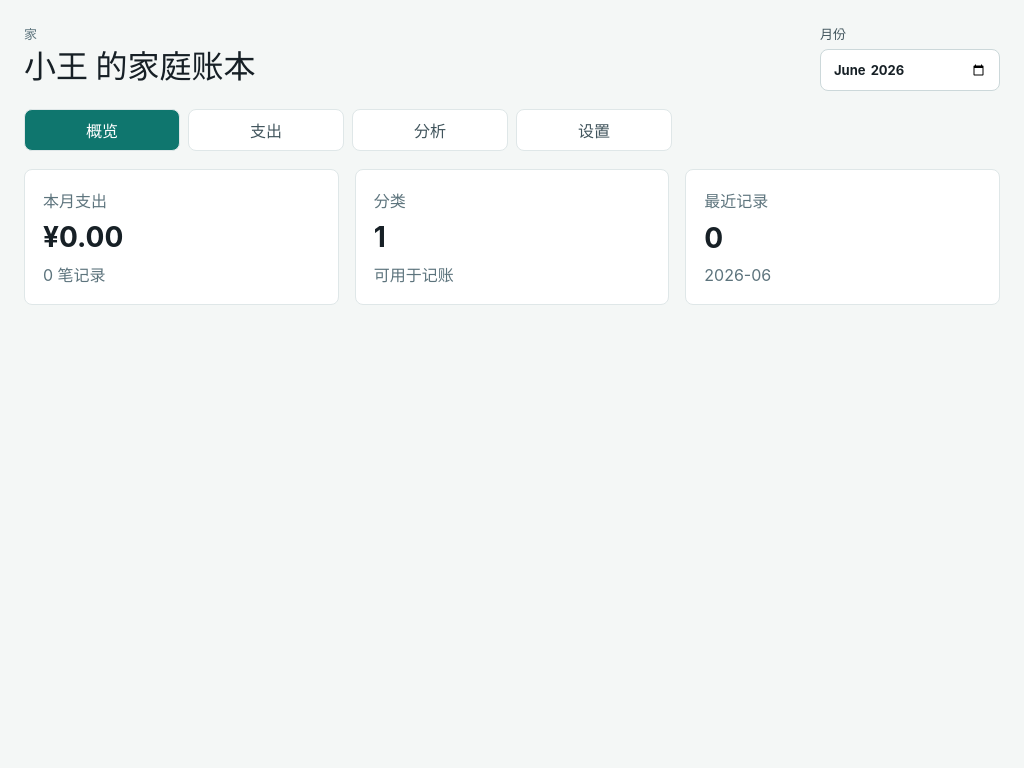
Scenario: device public entry › returns to the public entry when an authenticated expense action gets a current-token 401
Check: the navigation bar named "设备端导航" is shown, box [24, 109, 672, 151]
Step 1. Click the button "支出" → (266, 130), box [188, 109, 344, 151]
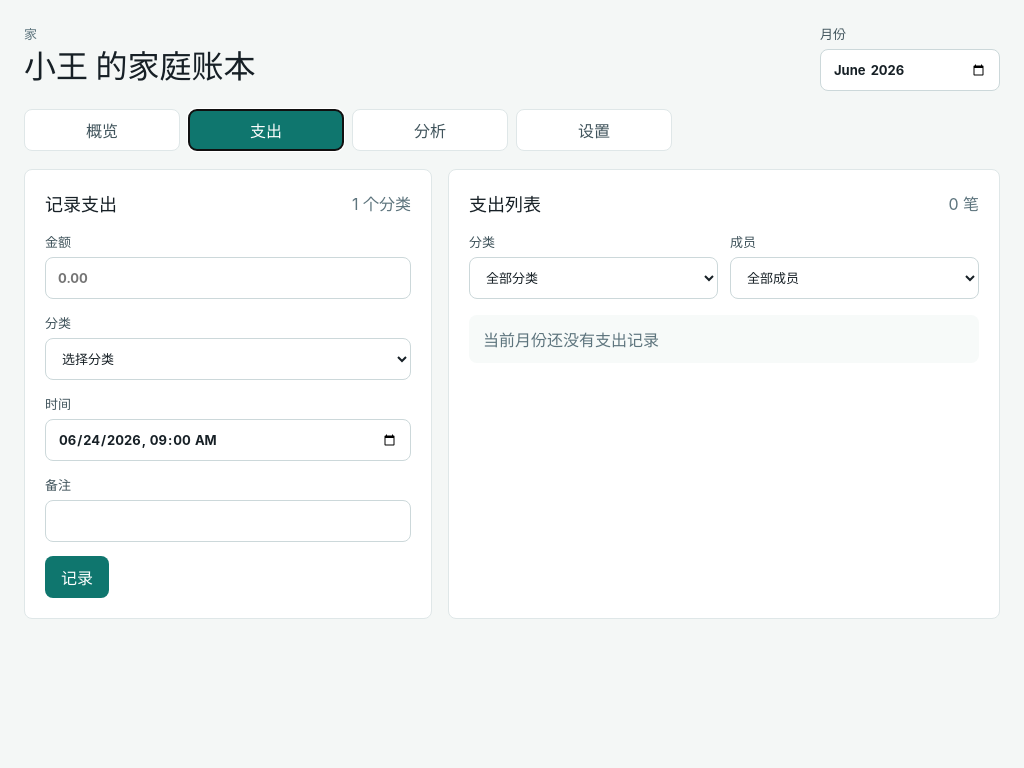
Step 2. Type "12.5" into the field with placeholder "0.00" → (228, 278), box [45, 257, 411, 299]
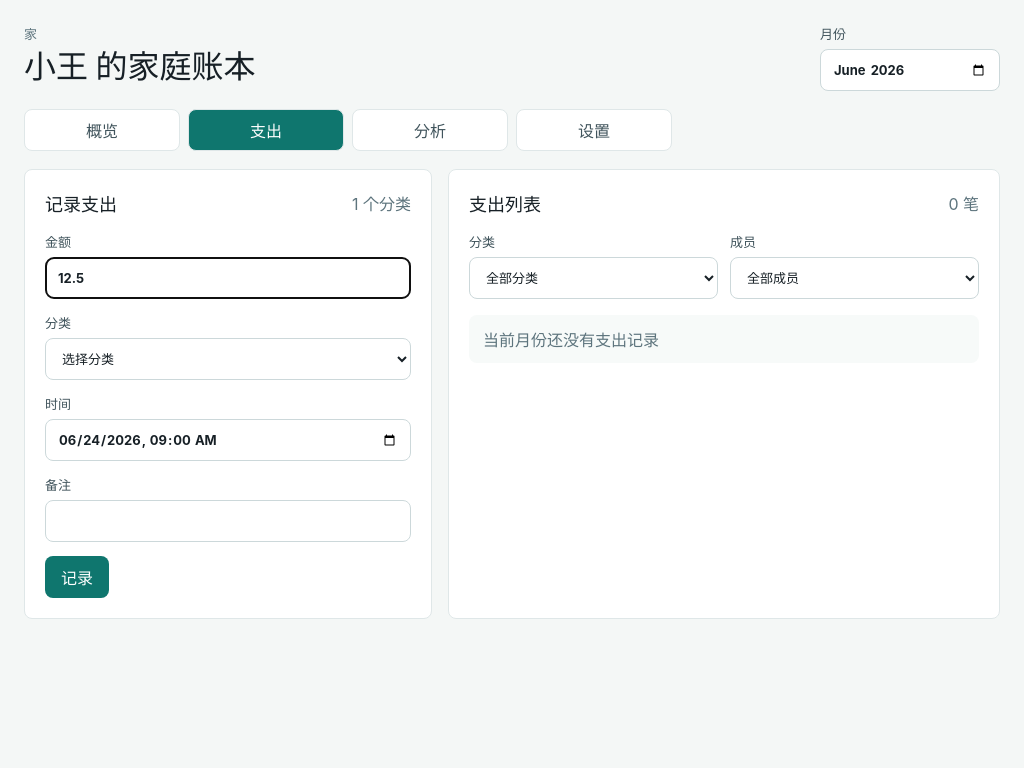
Step 3. Select "餐饮" in the dropdown labelled "分类" below "金额" → (228, 359), box [45, 338, 411, 380]
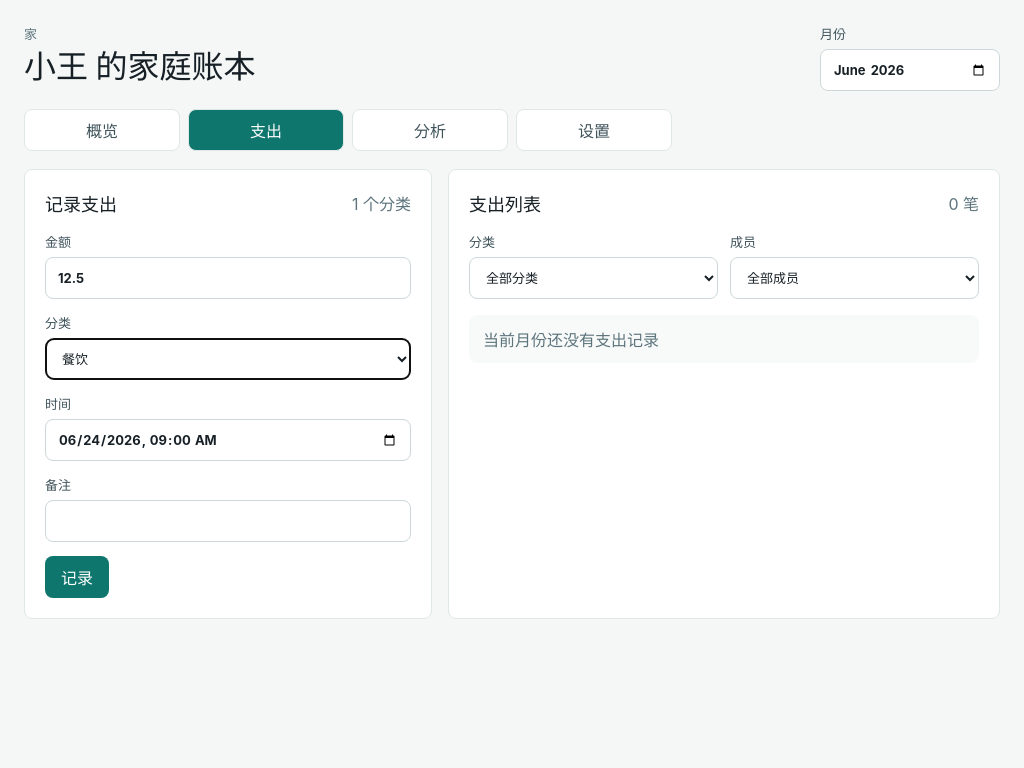
Step 4. Click the button "记录" → (77, 577), box [45, 556, 109, 598]
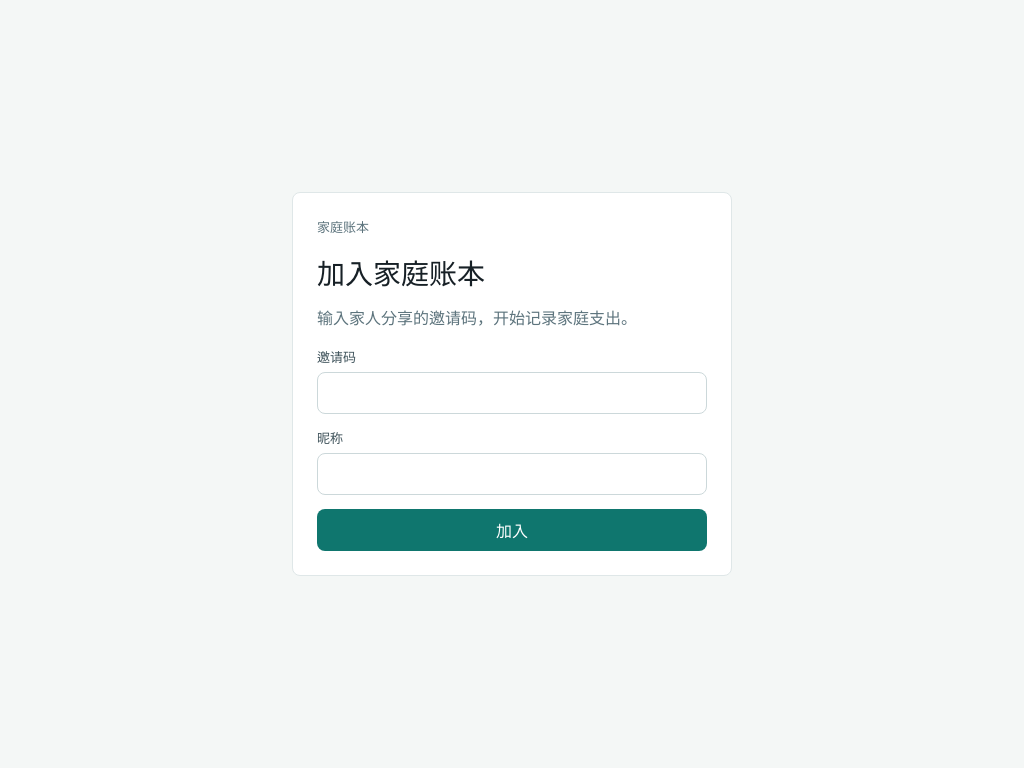
Check: the heading "加入家庭账本" is shown, box [317, 257, 485, 291]
Check: the navigation bar "设备端导航" is gone
